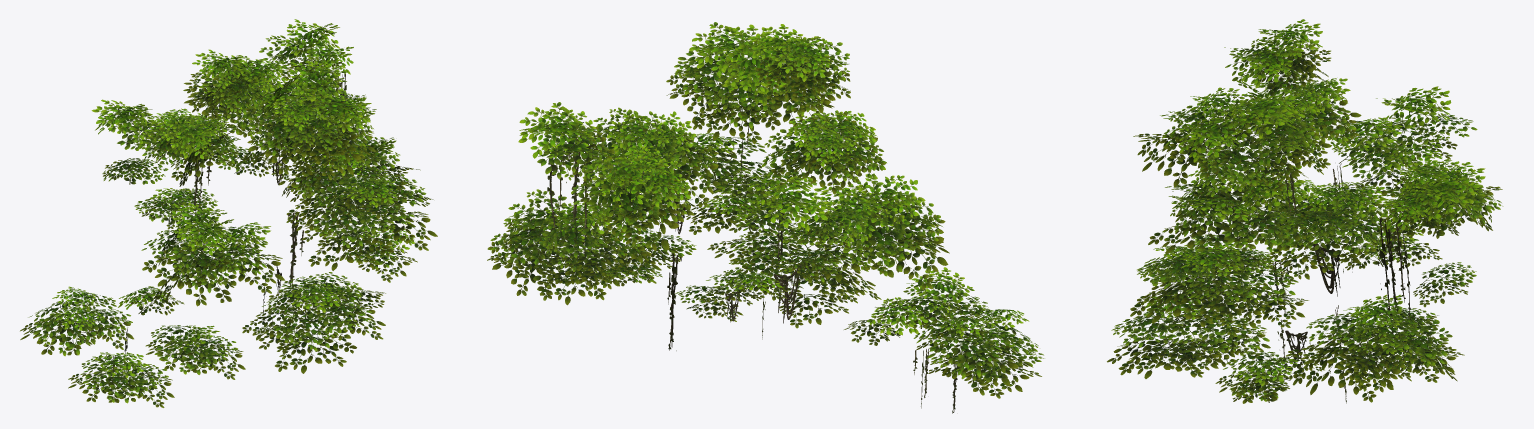
File: yj_shuye_4.FBX
3 renders of one model, left to right at view 1: azimuth 30°, elevation 25°; view 2: azimuth 150°, elevation 25°; view 3: azimuth 270°, elevation 25°, orthographic. The views are drawn at different scales.
Visible parts, largest first — view 1: yj_shuye_4; view 2: yj_shuye_4; view 3: yj_shuye_4.
Part boxes in pixels (x1,y1,x2,y2): yj_shuye_4: (20,19,437,407); yj_shuye_4: (487,22,1044,413); yj_shuye_4: (1107,19,1503,403).
Size of the model in its own units: 2774 by 1800 by 1994.
